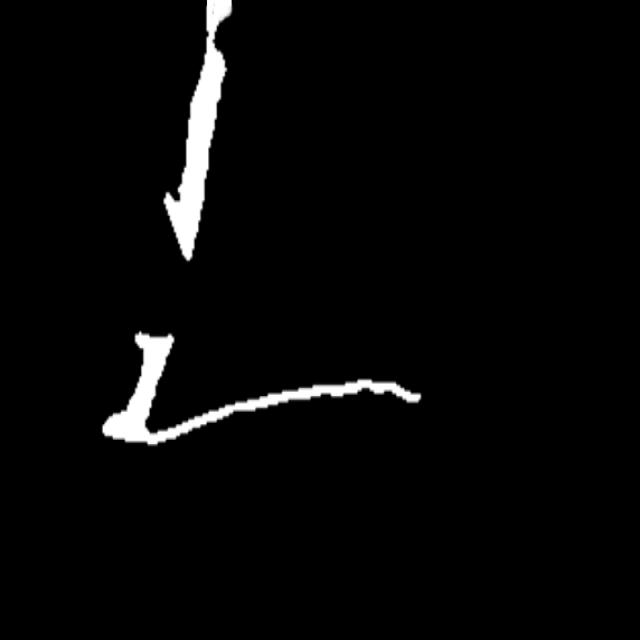sl: (200, 11, 235, 74)
